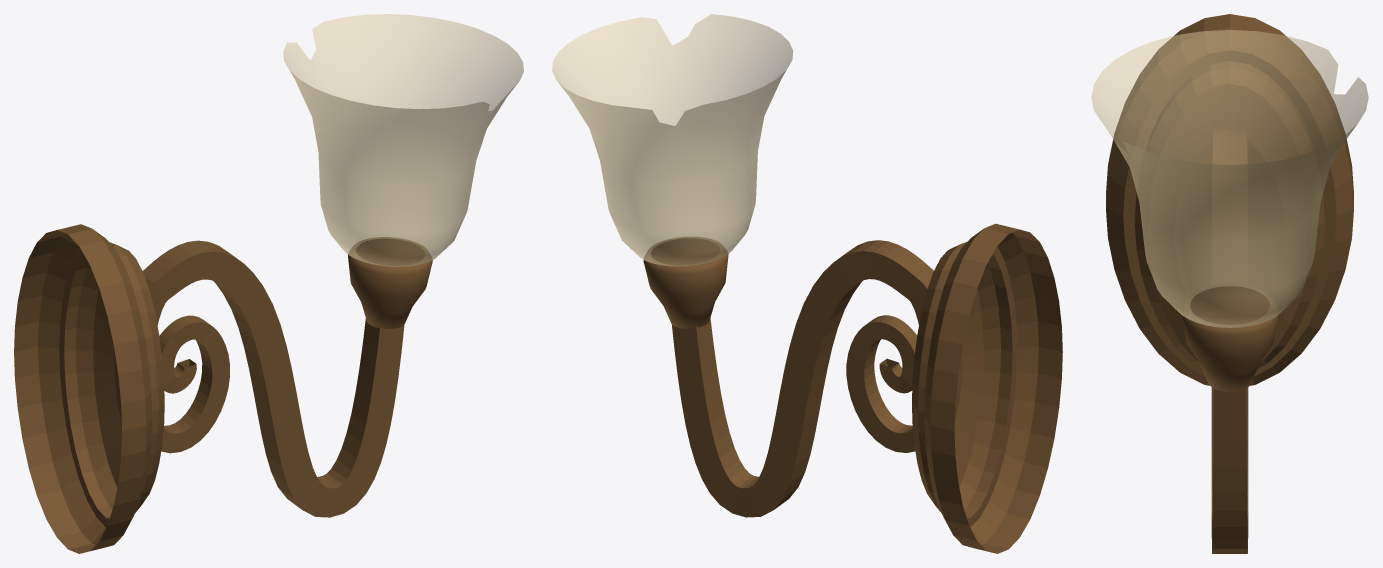
File: WallLantern.fbx
3 views of the same model, side by side, from view 1: azimuth 30°, elevation 25°; view 2: azimuth 150°, elevation 25°; view 3: azimuth 270°, elevation 25° (orthographic). The views are drawn at different scales.
Visible parts, largest first — view 1: WallLantern; view 2: WallLantern; view 3: WallLantern.
Boxes of the visible parts, x1=… form: WallLantern: x1=14, y1=14, x2=523, y2=553; WallLantern: x1=552, y1=14, x2=1062, y2=553; WallLantern: x1=1091, y1=14, x2=1368, y2=553.
Bounding box in the file's own units: 0.5469 × 0.5206 × 0.2602.
